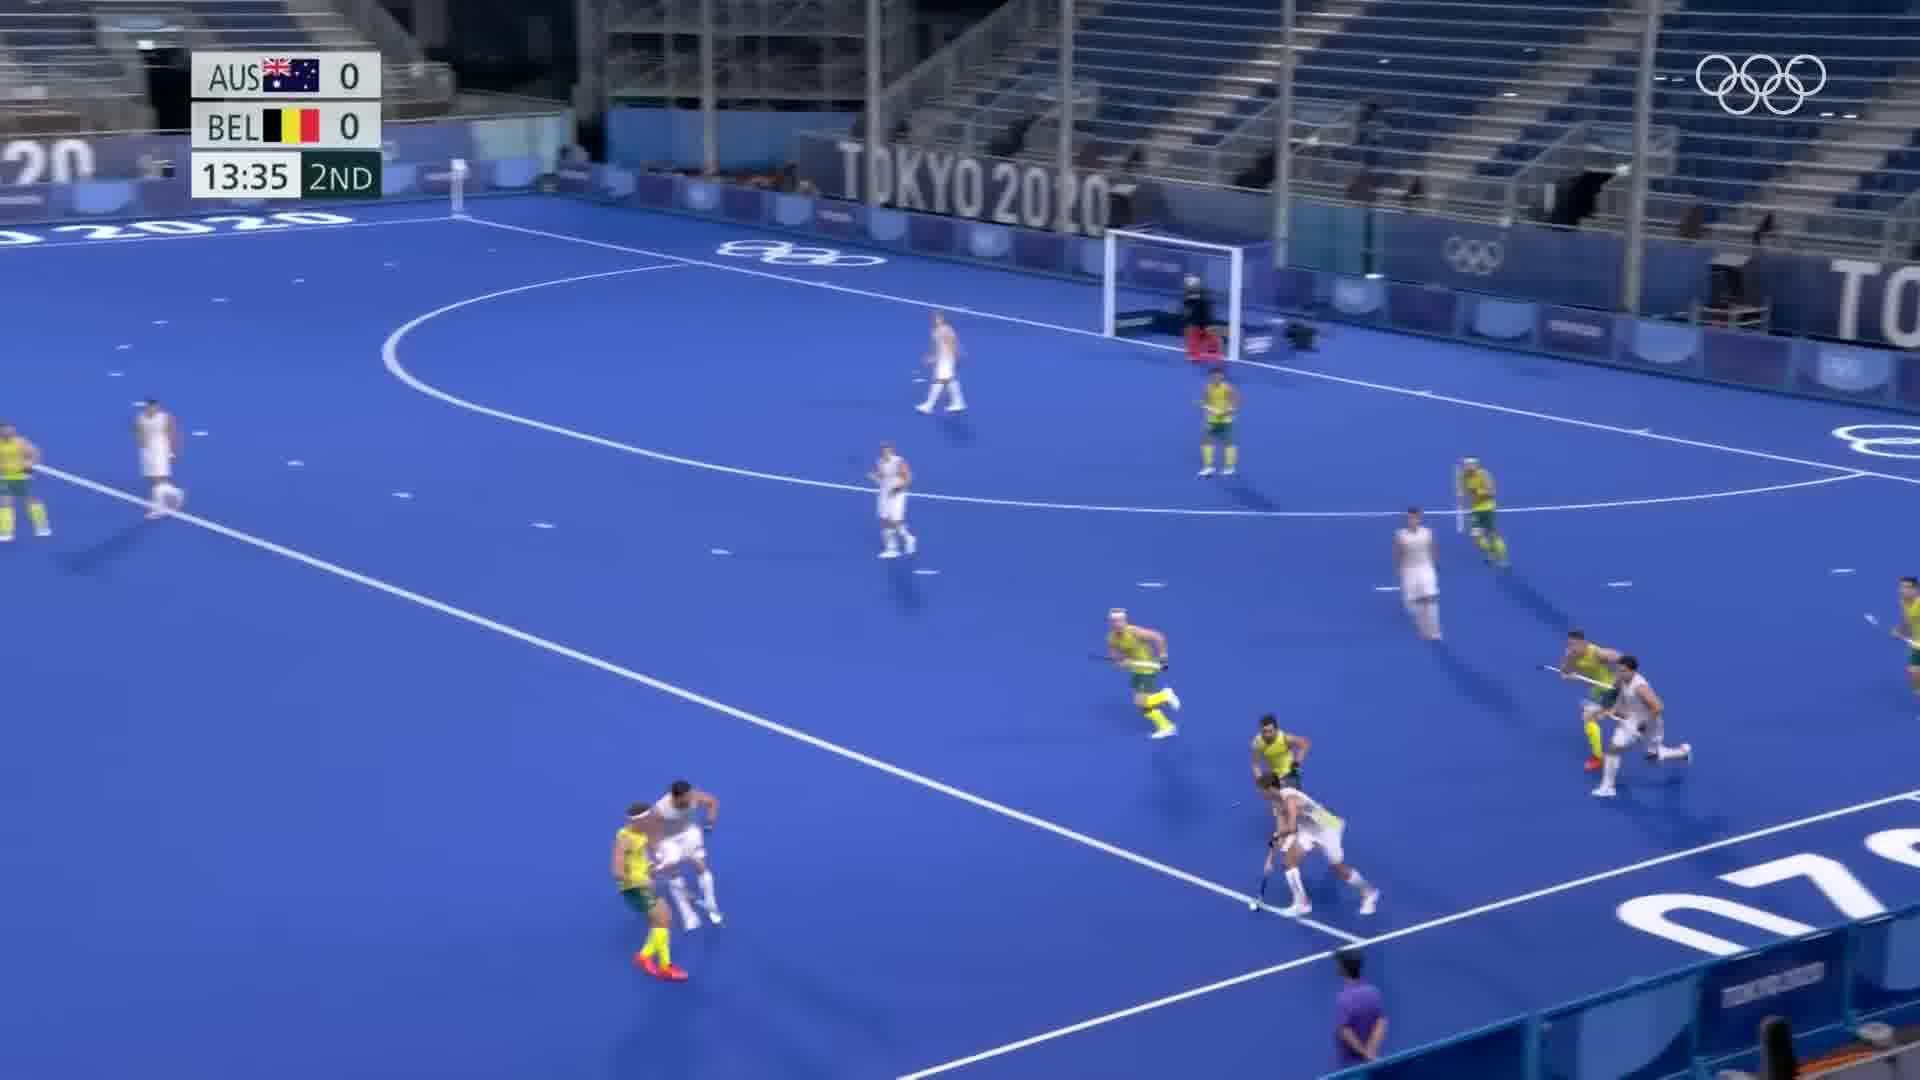ball: (1240, 895, 1261, 920)
